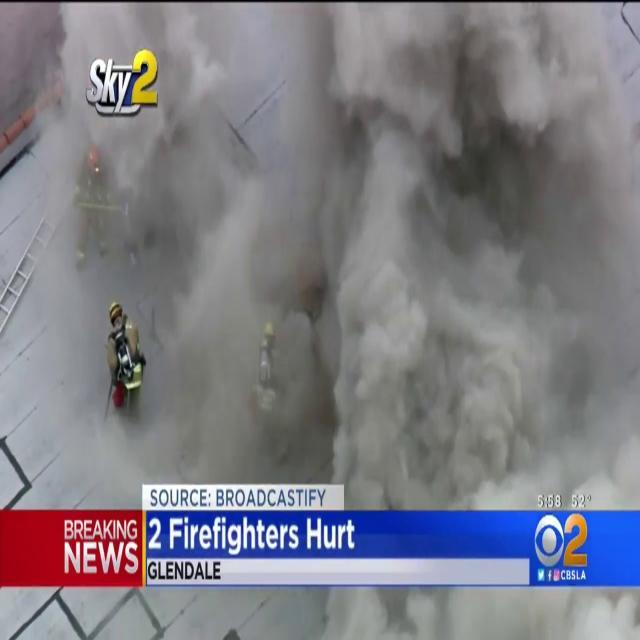Smoke: (9, 4, 636, 494)
